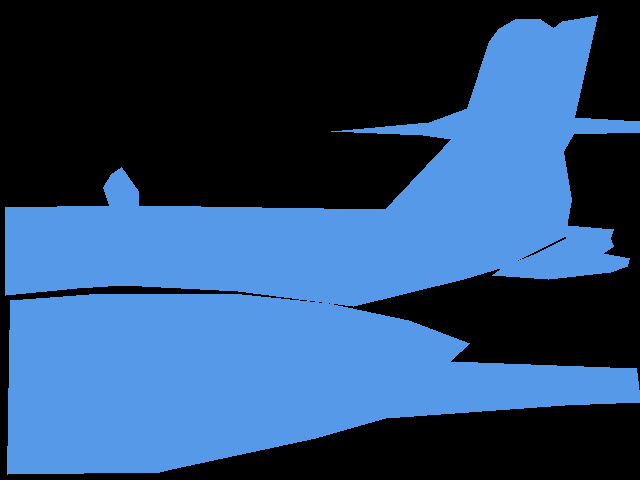Airplane: (5, 15, 640, 306), (7, 294, 640, 475), (492, 225, 630, 280)
